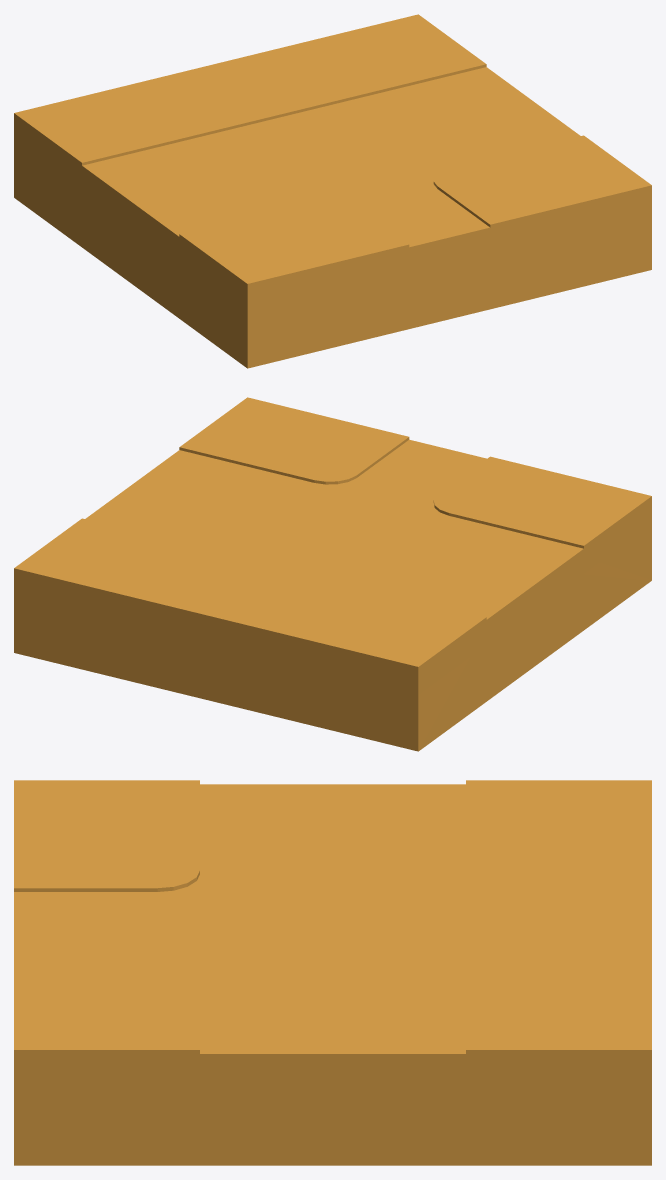
The model's file is tile-road-mainroad-intersection-t.glb.
3 views of the same model, one above another, from view 1: azimuth 30°, elevation 25°; view 2: azimuth 150°, elevation 25°; view 3: azimuth 270°, elevation 25° (orthographic). The views are drawn at different scales.
Parts seen in each view (by area): view 1: tile-road-mainroad-intersection-t; view 2: tile-road-mainroad-intersection-t; view 3: tile-road-mainroad-intersection-t.
Part boxes in pixels (<box>): tile-road-mainroad-intersection-t: <box>14,14,651,368</box>; tile-road-mainroad-intersection-t: <box>14,397,651,751</box>; tile-road-mainroad-intersection-t: <box>14,780,651,1165</box>.
Size of the model in its own units: 30 by 6 by 30.
